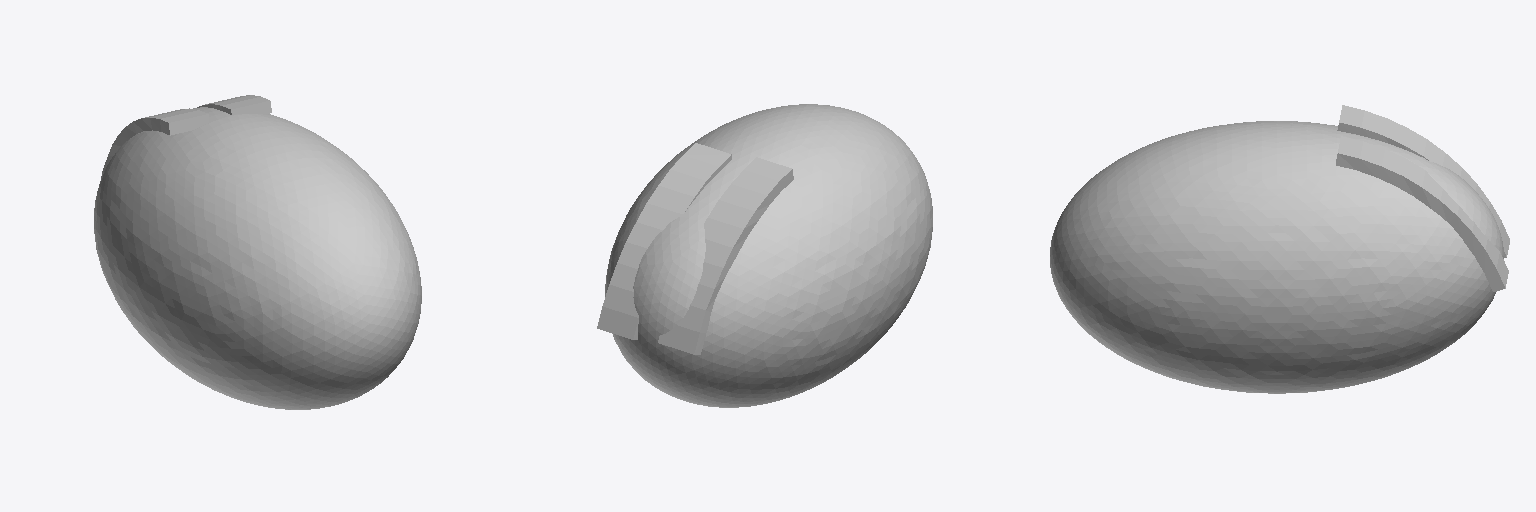
File: Mouse (for computer).obj
3 views of the same model, side by side, from view 1: azimuth 30°, elevation 25°; view 2: azimuth 150°, elevation 25°; view 3: azimuth 270°, elevation 25° (orthographic).
Parts seen in each view (by area): view 1: Mouse (for computer); view 2: Mouse (for computer); view 3: Mouse (for computer).
Boxes of the visible parts, box(x1,y1,x2,y2) form: Mouse (for computer): box(94, 95, 421, 409); Mouse (for computer): box(597, 104, 932, 407); Mouse (for computer): box(1050, 105, 1509, 393).
Size of the model in its own units: 0.3721 by 0.3756 by 0.6279.